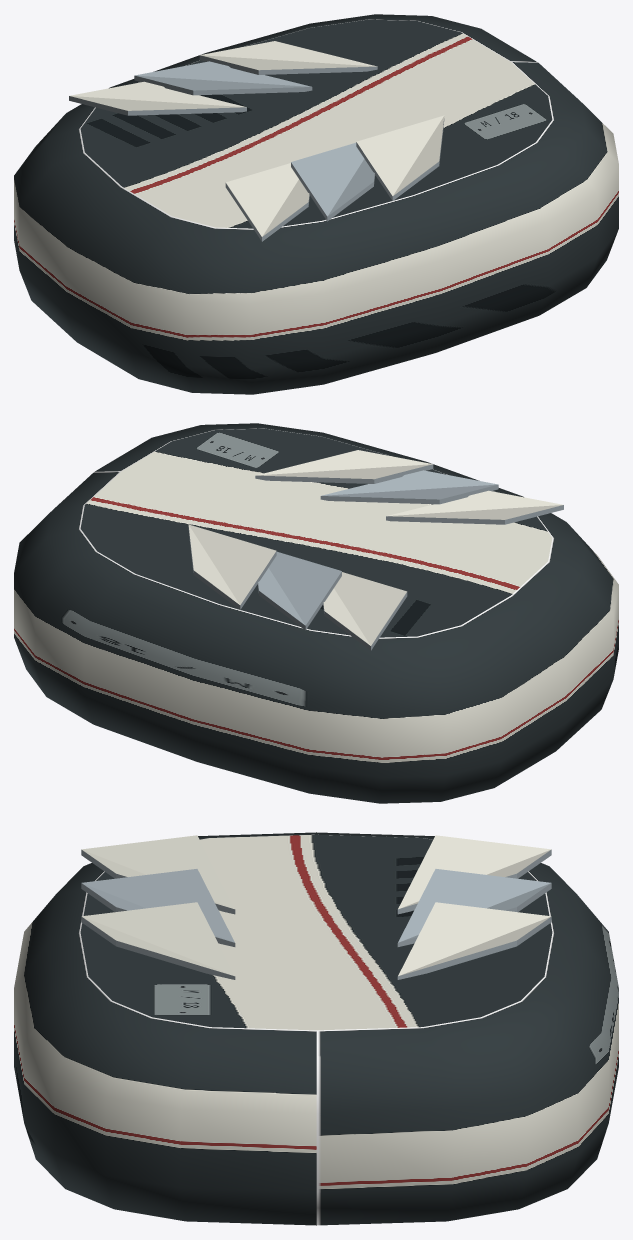
File: MotorCowl_18_SR_濃藍・逆舷.glb
3 views of the same model, one above another, from view 1: azimuth 30°, elevation 25°; view 2: azimuth 150°, elevation 25°; view 3: azimuth 270°, elevation 25° (orthographic). The views are drawn at different scales.
Visible parts, largest first — view 1: MotorCowl_18_SR; view 2: MotorCowl_18_SR; view 3: MotorCowl_18_SR.
Part boxes in pixels (x1,y1,x2,y2): MotorCowl_18_SR: (14, 14, 618, 394); MotorCowl_18_SR: (14, 423, 618, 803); MotorCowl_18_SR: (14, 832, 618, 1225).
Size of the model in its own units: 0.332 by 0.1225 by 0.286.
Materials: 2 (2 with a texture image).
